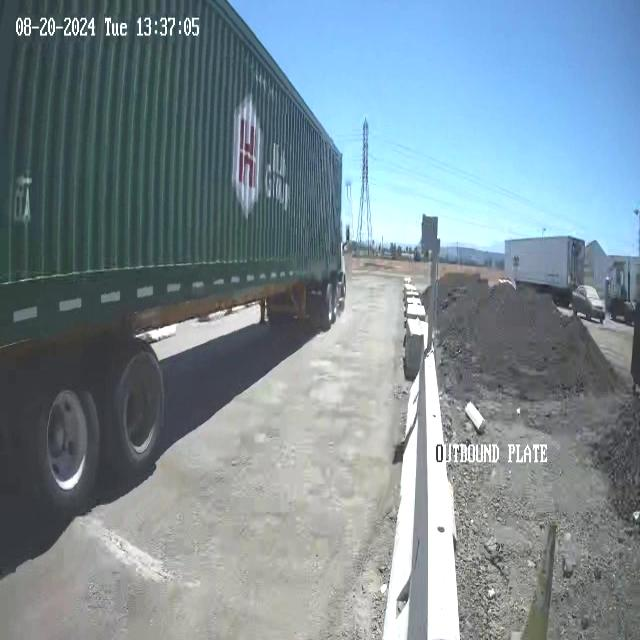TRUCK_CONTAINER: (1, 0, 347, 528)
